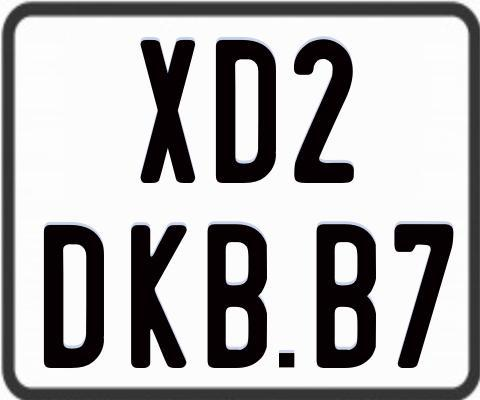2: (292, 37, 353, 187)
7: (393, 222, 457, 370)
B: (206, 223, 269, 373), (315, 223, 378, 369)
D: (213, 39, 279, 182), (44, 224, 106, 373)
K: (130, 225, 191, 371)
X: (140, 40, 194, 186)
